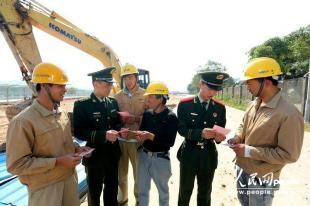helmet: (242, 61, 283, 83), (31, 63, 71, 85), (146, 83, 170, 98), (122, 64, 140, 77)
